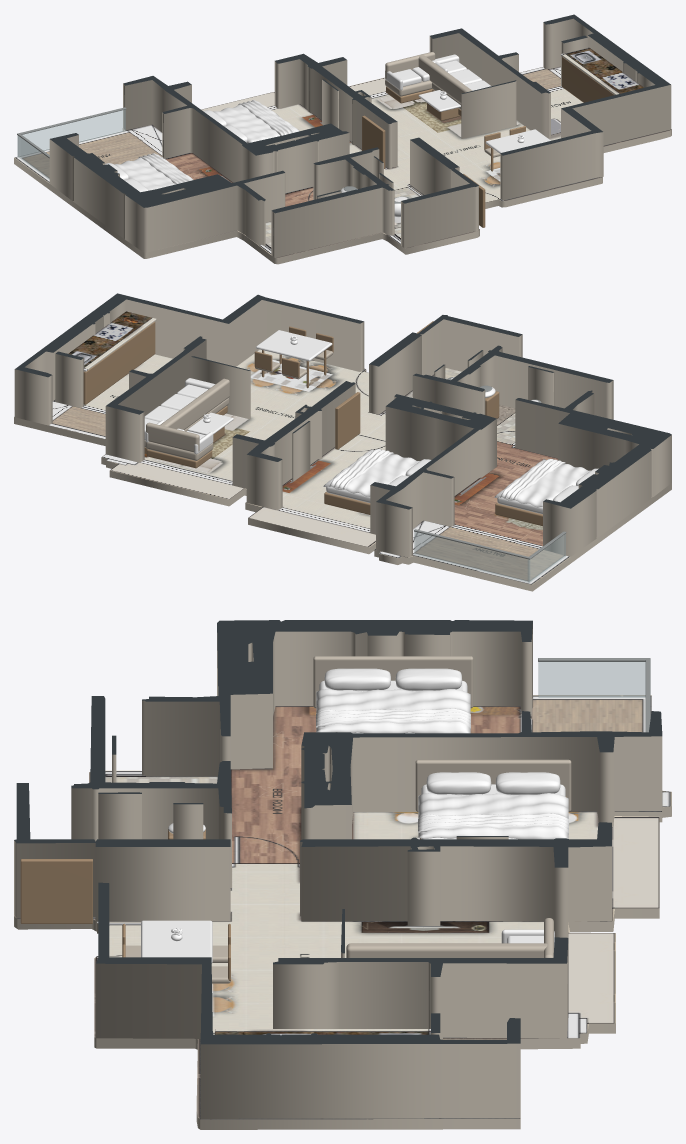
3 views of the same model, one above another, from view 1: azimuth 30°, elevation 25°; view 2: azimuth 150°, elevation 25°; view 3: azimuth 270°, elevation 25° (orthographic). The views are drawn at different scales.
Visible parts, largest first — view 1: Partition walls, Apartment floor, Balcony glazing, Stone worktop, Draped bed linen, Kitchen cabinets, Draped bed linen.002, Sofa back, Marble dining top, Open oak door.001, Balcony glazing.001, Draped bed linen.001 (+4 smaller); view 2: Partition walls, Apartment floor, Balcony glazing, Kitchen cabinets, Stone worktop, Draped bed linen.002, Draped bed linen, Sofa back, Marble dining top, Open oak door.001, Sofa back.001, Balcony glazing.001 (+7 smaller); view 3: Partition walls, Apartment floor, Draped bed linen.002, Open oak door, Draped bed linen, Balcony glazing.001, Sofa back, Upholstered headboard, Upholstered headboard.001, Marble dining top, Draped bed linen.001, Draped bed linen.003 (+5 smaller).
Boxes of the visible parts, x1,y1,x2,y2 form: Partition walls: [49, 14, 671, 257]; Apartment floor: [14, 66, 671, 264]; Balcony glazing: [18, 109, 125, 156]; Stone worktop: [561, 47, 643, 94]; Draped bed linen: [213, 101, 299, 143]; Kitchen cabinets: [562, 56, 614, 102]; Draped bed linen.002: [114, 154, 193, 190]; Sofa back: [418, 55, 472, 103]; Marble dining top: [485, 129, 550, 153]; Open oak door.001: [362, 115, 385, 168]; Balcony glazing.001: [17, 135, 49, 179]; Draped bed linen.001: [238, 100, 296, 135]; Partition walls: [14, 293, 671, 557]; Apartment floor: [14, 349, 671, 591]; Balcony glazing: [414, 532, 529, 582]; Kitchen cabinets: [83, 321, 155, 404]; Stone worktop: [68, 311, 156, 371]; Draped bed linen.002: [494, 459, 590, 507]; Draped bed linen: [323, 449, 419, 496]; Sofa back: [160, 378, 229, 429]; Marble dining top: [256, 330, 332, 361]; Open oak door.001: [335, 392, 360, 449]; Sofa back.001: [146, 422, 199, 452]; Balcony glazing.001: [528, 534, 565, 582]; Partition walls: [14, 620, 662, 1118]; Apartment floor: [14, 695, 671, 1129]; Draped bed linen.002: [316, 689, 470, 733]; Open oak door: [20, 859, 92, 923]; Draped bed linen: [418, 793, 568, 839]; Balcony glazing.001: [538, 662, 645, 697]; Sofa back: [346, 943, 547, 957]; Upholstered headboard: [415, 759, 571, 811]; Upholstered headboard.001: [313, 656, 473, 708]; Marble dining top: [141, 920, 212, 963]; Draped bed linen.001: [418, 813, 568, 834]; Draped bed linen.003: [316, 708, 470, 728].
Bounding box in the file's own units: 13.94 × 1.3 × 9.12.
Materials: 11 (1 with a texture image).
